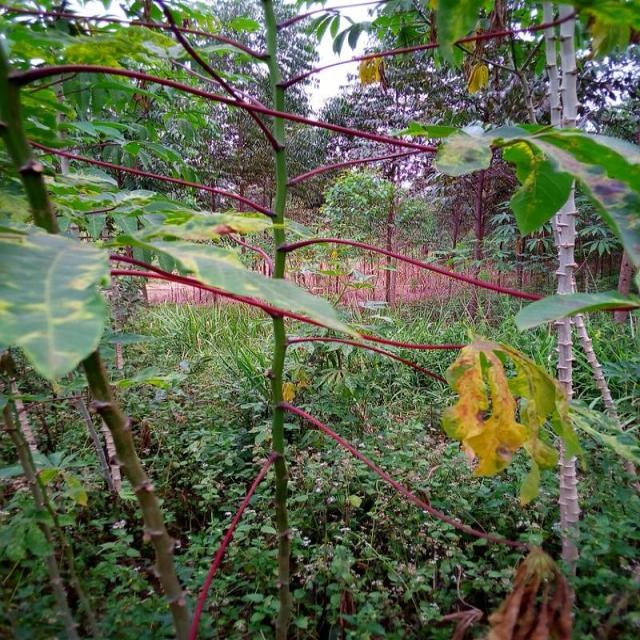cassava leaf: (440, 337, 586, 507), (2, 223, 112, 381), (514, 288, 640, 333)
